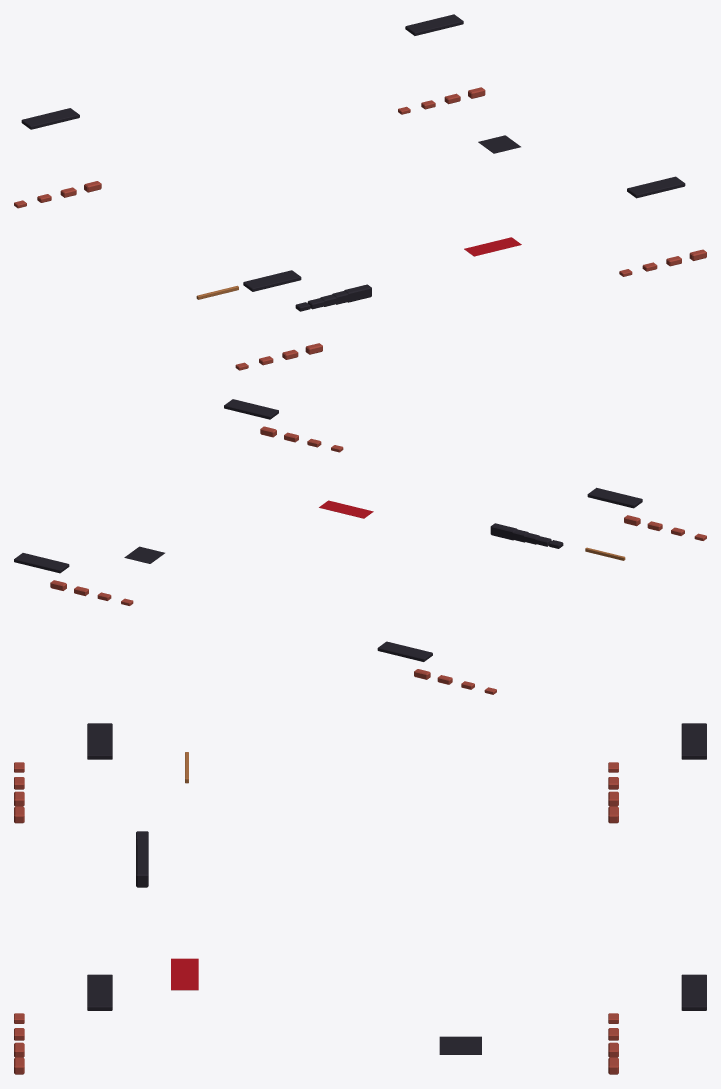
The model's file is D-RES.w5.glb.
The picture shows the model from 3 angles, top to bottom: view 1: azimuth 30°, elevation 25°; view 2: azimuth 150°, elevation 25°; view 3: azimuth 270°, elevation 25°; orthographic projection. The views are drawn at different scales.
Parts seen in each view (by area): view 1: pal_uiDark.002, pal_brick.003; view 2: pal_uiDark.002, pal_brick.003, pal_blood.003; view 3: pal_uiDark.002, pal_brick.003, pal_blood.003.
Boxes of the visible parts, <box> form: pal_uiDark.002: <box>21,14,685,311</box>; pal_brick.003: <box>14,87,706,370</box>; pal_uiDark.002: <box>14,399,642,661</box>; pal_brick.003: <box>50,426,706,694</box>; pal_blood.003: <box>319,500,373,518</box>; pal_uiDark.002: <box>87,723,706,1054</box>; pal_brick.003: <box>14,762,618,1074</box>; pal_blood.003: <box>171,958,198,990</box>.
Size of the model in its own units: 34.55 by 3.87 by 32.65.
